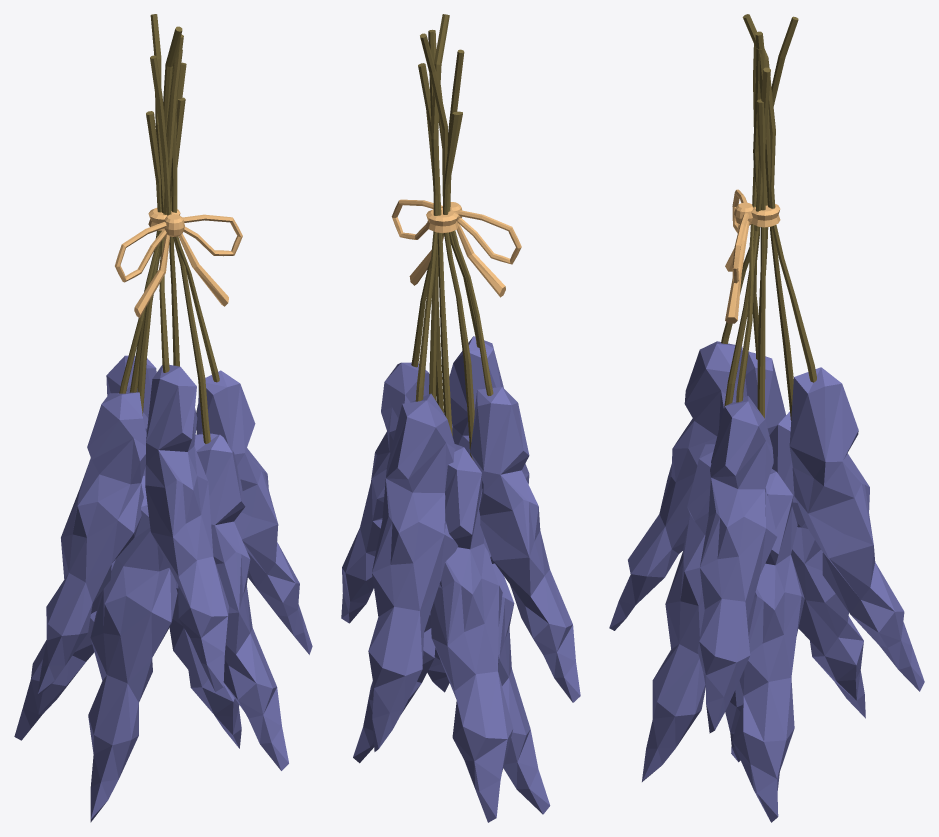
File: SFHW_Dried_Herbs_007.fbx
3 views of the same model, side by side, from view 1: azimuth 30°, elevation 25°; view 2: azimuth 150°, elevation 25°; view 3: azimuth 270°, elevation 25° (orthographic). The views are drawn at different scales.
Parts seen in each view (by area): view 1: SFHW_Dried_Herbs_007; view 2: SFHW_Dried_Herbs_007; view 3: SFHW_Dried_Herbs_007.
Boxes of the visible parts, x1=… form: SFHW_Dried_Herbs_007: x1=14, y1=14, x2=312, y2=822; SFHW_Dried_Herbs_007: x1=341, y1=14, x2=580, y2=822; SFHW_Dried_Herbs_007: x1=609, y1=14, x2=924, y2=822.
Size of the model in its own units: 15.72 by 45.27 by 16.31.
